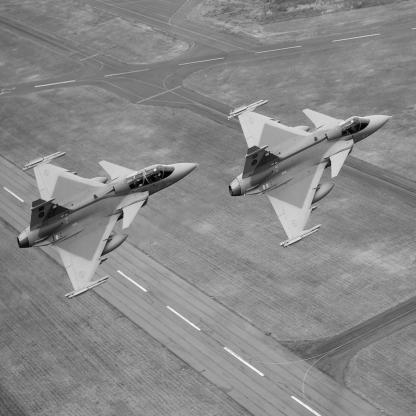JAS39: (18, 152, 207, 302), (229, 101, 400, 252)
